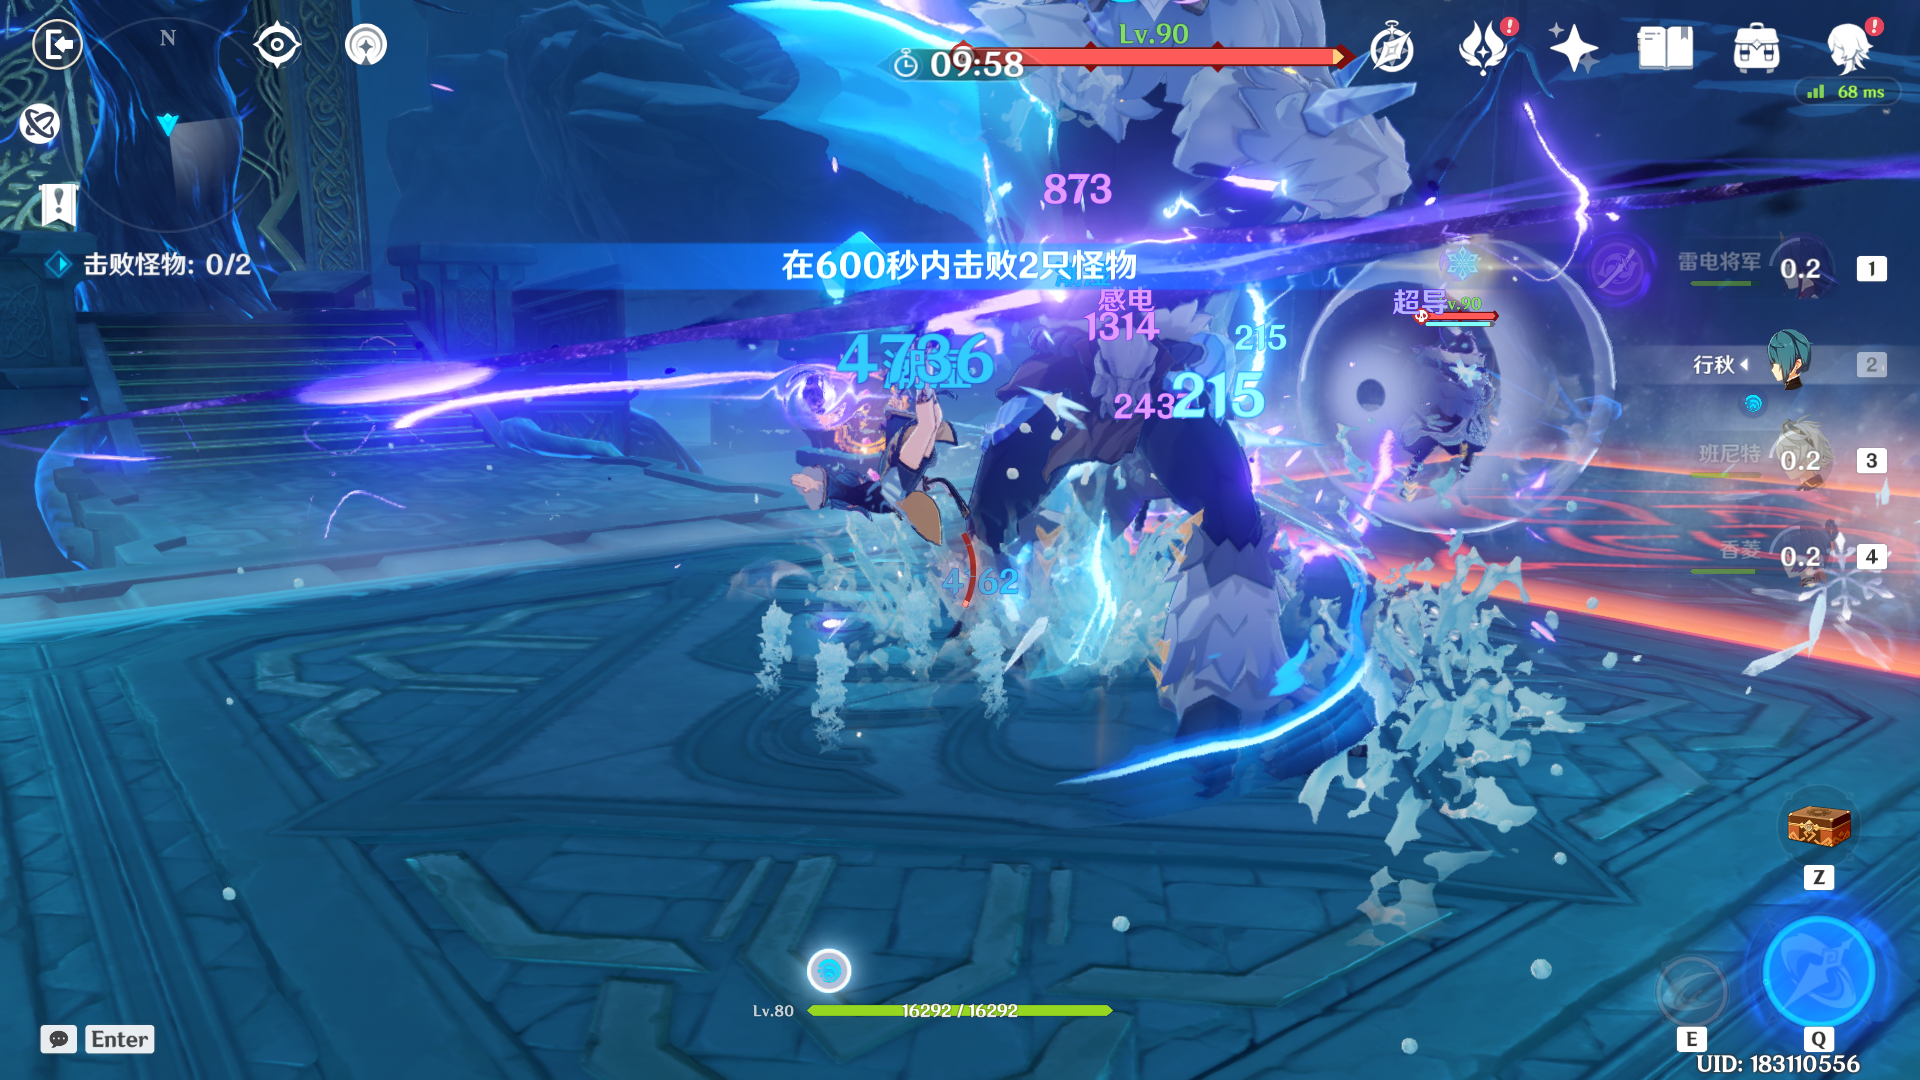bosshili: (841, 1, 1437, 825)
caster: (1356, 274, 1605, 534)
